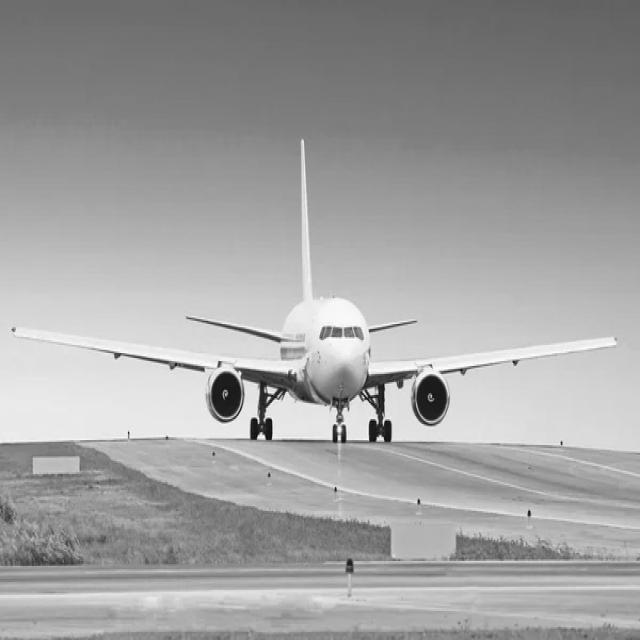Aircraft: (14, 139, 616, 442)
